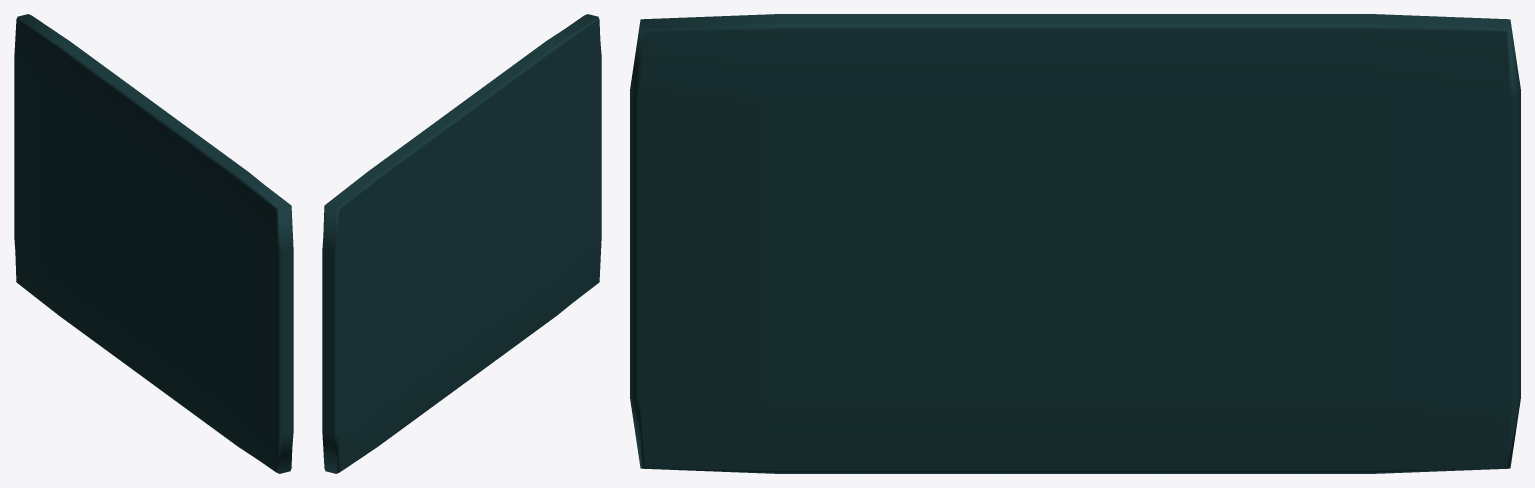
Rendered from 196_ecran_commande.glb.
3 renders of one model, left to right at view 1: azimuth 30°, elevation 25°; view 2: azimuth 150°, elevation 25°; view 3: azimuth 270°, elevation 25°, orthographic. The views are drawn at different scales.
Parts seen in each view (by area): view 1: AGV_ecran_commande; view 2: AGV_ecran_commande; view 3: AGV_ecran_commande.
Boxes of the visible parts, <box> form: AGV_ecran_commande: <box>14,14,293,473</box>; AGV_ecran_commande: <box>322,14,601,473</box>; AGV_ecran_commande: <box>630,14,1520,473</box>.
Size of the model in its own units: 0.006 by 0.095 by 0.17.
